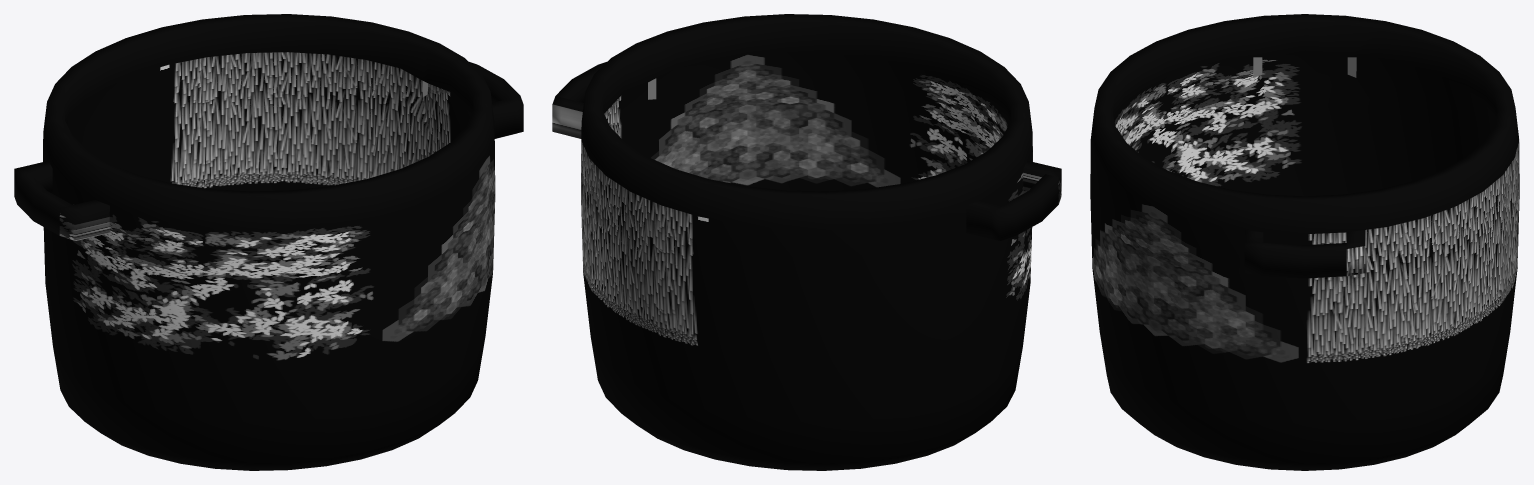
The model's file is firedCookingPot.glb.
The picture shows the model from 3 angles, left to right: view 1: azimuth 30°, elevation 25°; view 2: azimuth 150°, elevation 25°; view 3: azimuth 270°, elevation 25°; orthographic projection.
Visible parts, largest first — view 1: Cylinder; view 2: Cylinder; view 3: Cylinder.
Part boxes in pixels (bbox=[...]): Cylinder: bbox=[14, 14, 523, 470]; Cylinder: bbox=[552, 14, 1061, 470]; Cylinder: bbox=[1090, 14, 1519, 470].
Bounding box in the file's own units: 0.6354 × 0.3698 × 0.51.
Materials: 1 (1 with a texture image).
